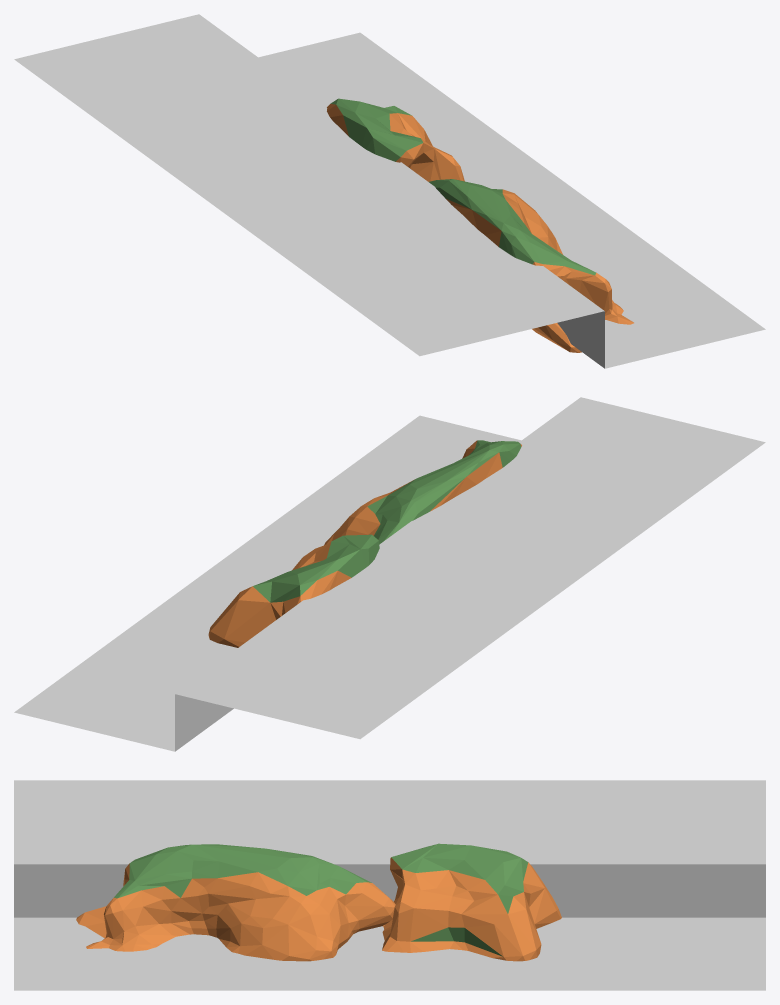
File: Stones.fbx
The picture shows the model from 3 angles, top to bottom: view 1: azimuth 30°, elevation 25°; view 2: azimuth 150°, elevation 25°; view 3: azimuth 270°, elevation 25°; orthographic projection. The views are drawn at different scales.
Visible parts, largest first — view 1: Plane.001, Stone_01, Stone_02; view 2: Plane.001, Stone_02, Stone_01; view 3: Plane.001, Stone_01, Stone_02.
Boxes of the visible parts, bbox=[...] form: Plane.001: bbox=[14, 14, 765, 368]; Stone_01: bbox=[429, 179, 633, 352]; Stone_02: bbox=[327, 98, 464, 181]; Plane.001: bbox=[14, 397, 765, 751]; Stone_02: bbox=[208, 534, 379, 647]; Stone_01: bbox=[324, 440, 521, 545]; Plane.001: bbox=[14, 780, 765, 990]; Stone_01: bbox=[76, 844, 395, 961]; Stone_02: bbox=[382, 843, 561, 961].
Bounding box in the file's own units: 1250 × 314 × 2537.
